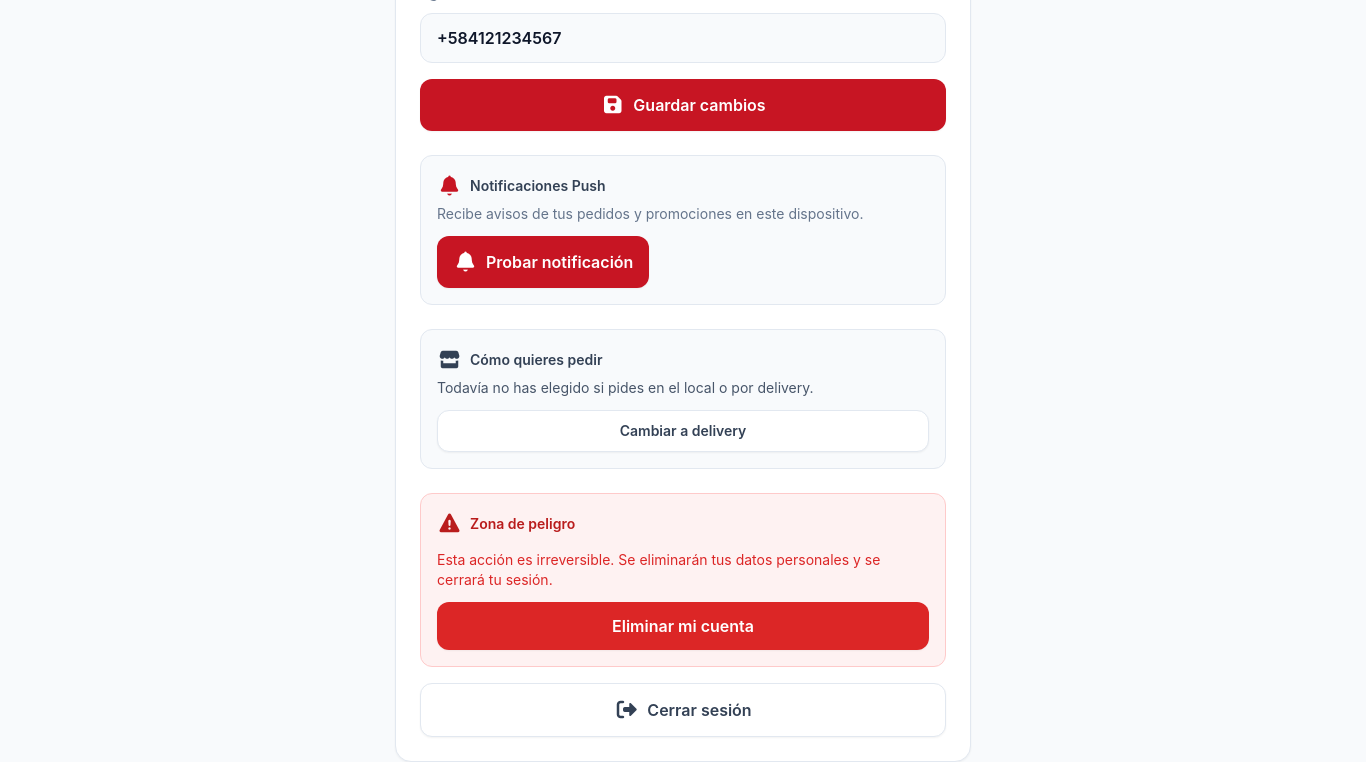
ProfilePage › abre el modal de confirmación al pulsar eliminar mi cuenta
The width and height of the screenshot is (1366, 762).
(page scrolled)
Click the button "Eliminar mi cuenta" at (683,626), box [437, 602, 929, 650]
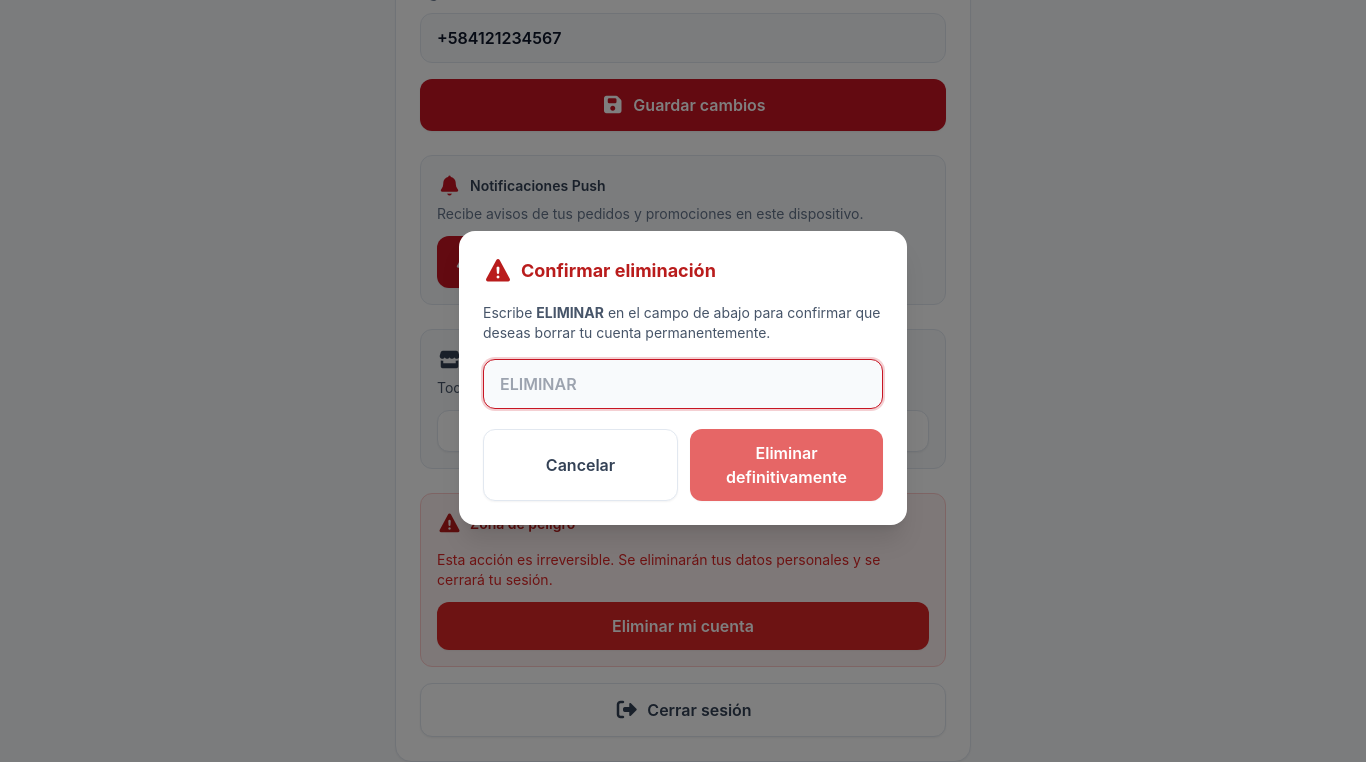
expect the heading "Confirmar eliminación" is shown: met, box [483, 255, 716, 287]
expect the field with placeholder "ELIMINAR" is shown: met, box [483, 359, 883, 409]
expect the button "Cancelar" is shown: met, box [483, 429, 678, 501]
